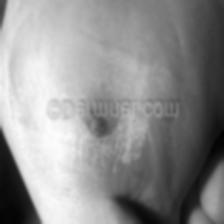Toxin: (81, 114, 108, 138)
